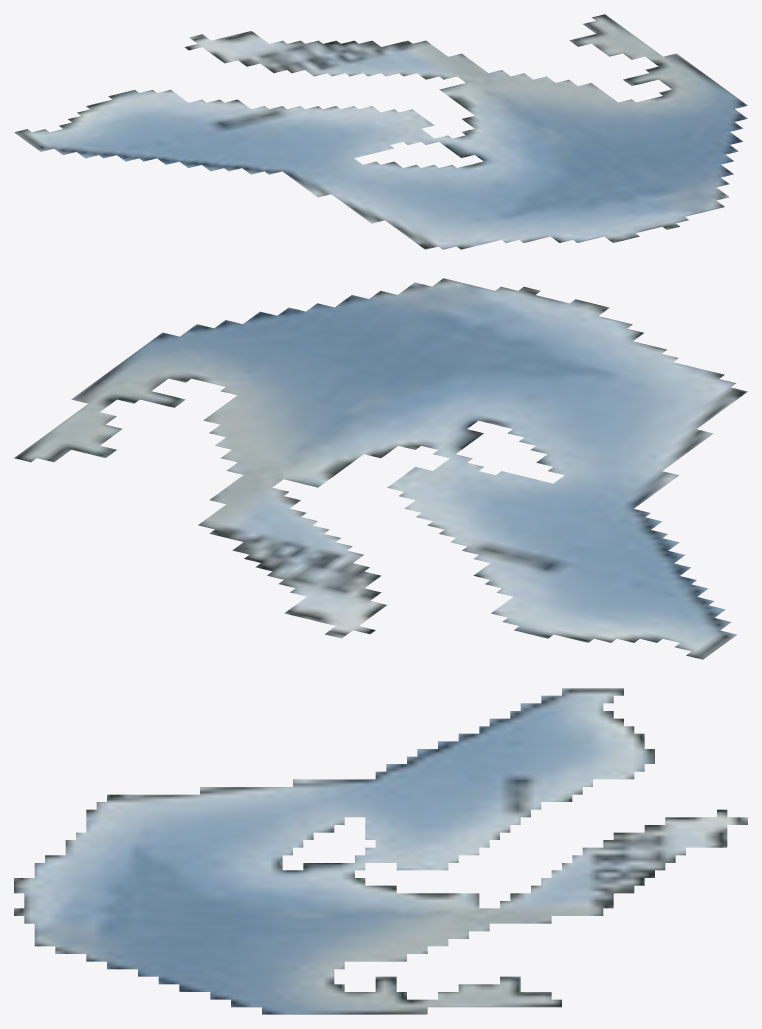
File: central-med-sea.gltf
3 renders of one model, top to bottom at view 1: azimuth 30°, elevation 25°; view 2: azimuth 150°, elevation 25°; view 3: azimuth 270°, elevation 25°, orthographic. The views are drawn at different scales.
Parts seen in each view (by area): view 1: Plane; view 2: Plane; view 3: Plane.
Boxes of the visible parts, x1=… form: Plane: x1=14, y1=14, x2=747, y2=249; Plane: x1=14, y1=278, x2=747, y2=659; Plane: x1=14, y1=688, x2=747, y2=1014.
Size of the model in its own units: 0.4245 by 0 by 0.4032.
Materials: 1 (1 with a texture image).
